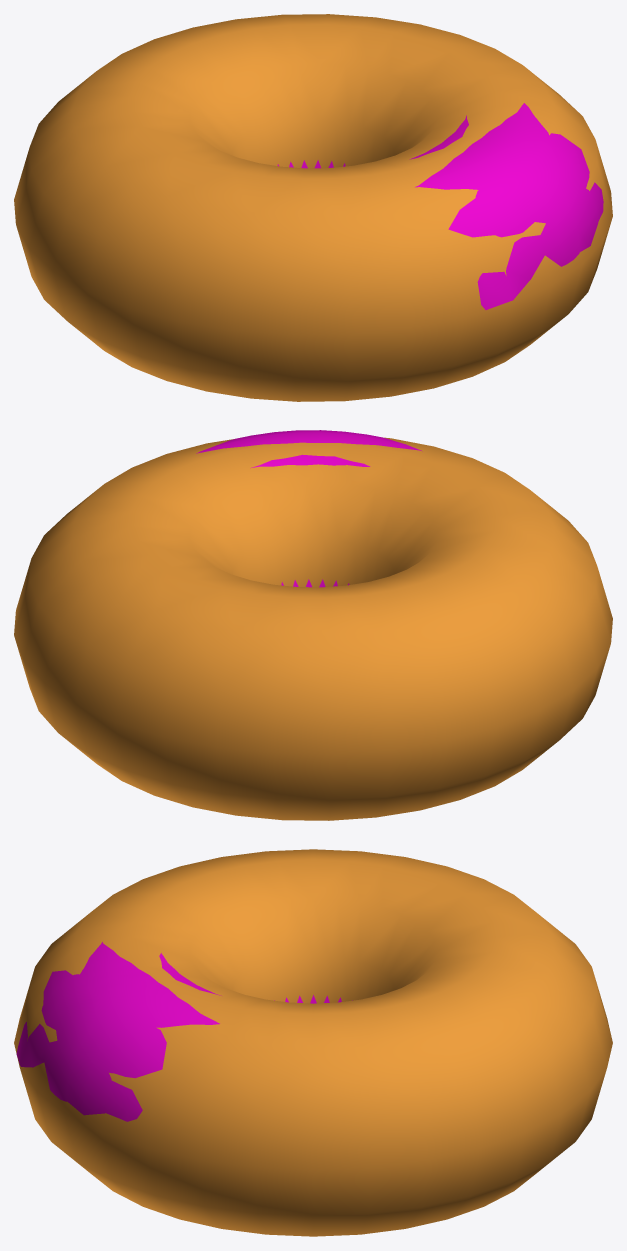
Rendered from donutEnemyboss.dae.
3 renders of one model, top to bottom at view 1: azimuth 30°, elevation 25°; view 2: azimuth 150°, elevation 25°; view 3: azimuth 270°, elevation 25°, orthographic.
Parts seen in each view (by area): view 1: Donut, Icing; view 2: Donut, Icing; view 3: Donut, Icing.
Part boxes in pixels (x1,y1,x2,y2): Donut: (14, 14, 612, 401); Icing: (277, 103, 603, 309); Donut: (14, 437, 612, 820); Icing: (196, 430, 422, 587); Donut: (14, 849, 612, 1236); Icing: (16, 942, 352, 1121).
Bounding box in the file's own units: 1.28 × 1.28 × 0.5.
